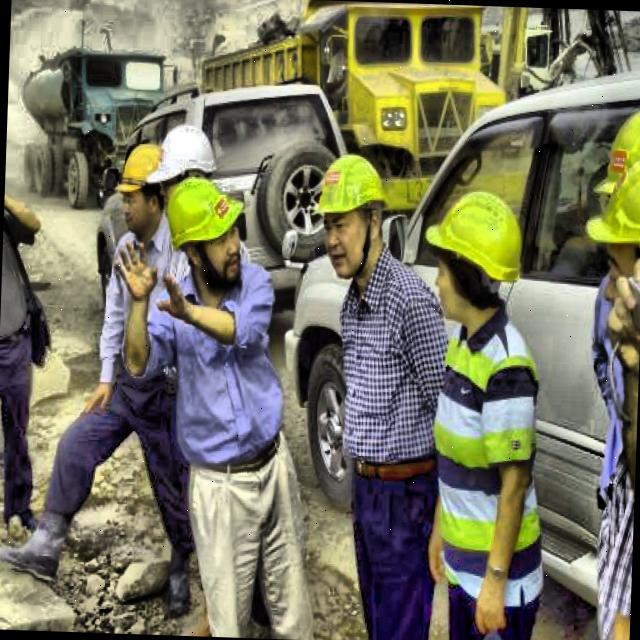helmet: (422, 183, 528, 323), (309, 143, 394, 282), (583, 149, 640, 342), (163, 172, 250, 279), (114, 134, 172, 238), (157, 122, 216, 197)
